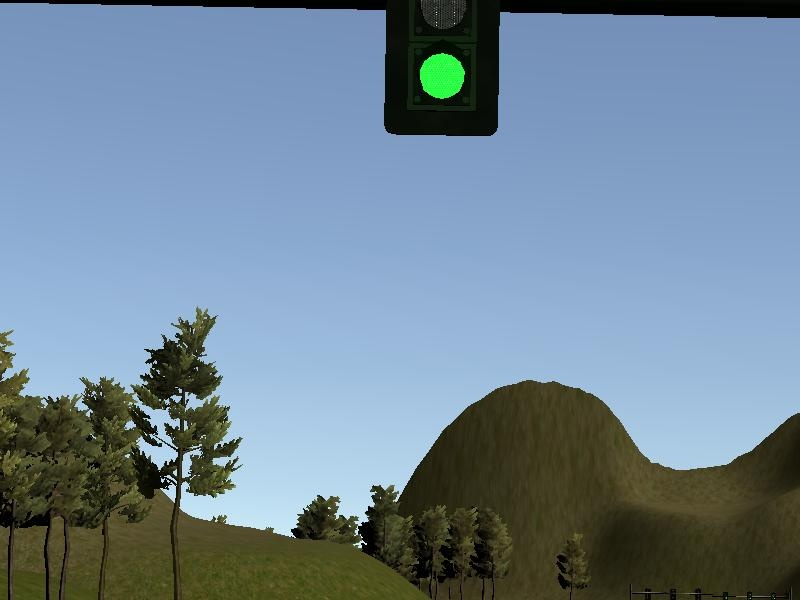traffic_light_green: (1, 2, 799, 135)
